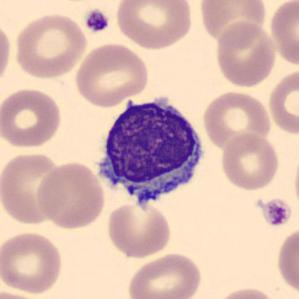Lymphocyte: (89, 90, 210, 216)
Platelets: (257, 196, 294, 228), (83, 7, 111, 34)
RBC: (11, 11, 89, 80), (72, 41, 151, 109), (35, 160, 107, 231), (0, 150, 65, 226), (213, 18, 278, 89), (200, 89, 273, 150), (0, 229, 65, 295), (113, 0, 195, 51), (0, 85, 64, 150), (105, 200, 173, 260), (218, 132, 282, 192), (125, 251, 204, 299), (196, 0, 269, 46), (266, 66, 299, 137), (266, 0, 298, 67), (274, 224, 299, 297), (212, 285, 280, 299), (0, 18, 13, 89)
